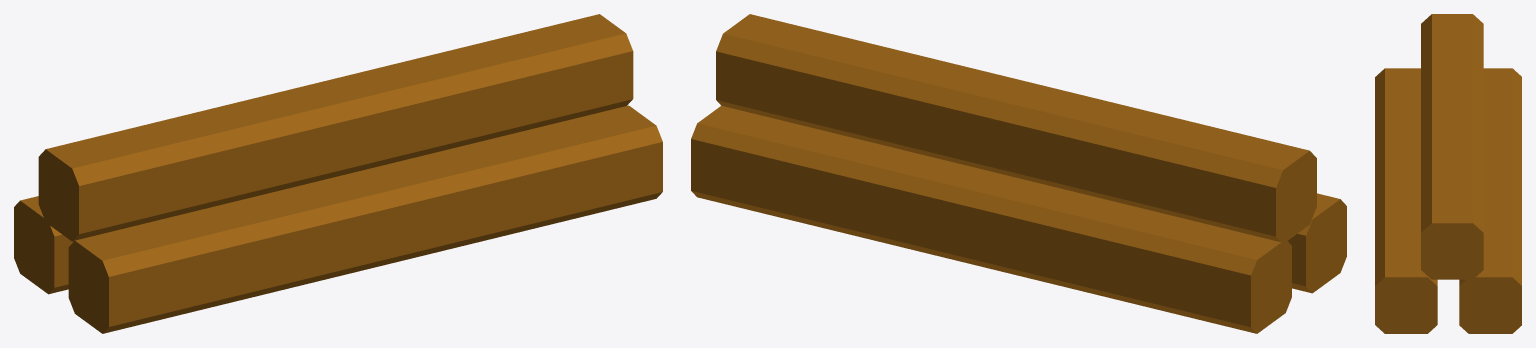
Rendered from Wood.fbx.
3 renders of one model, left to right at view 1: azimuth 30°, elevation 25°; view 2: azimuth 150°, elevation 25°; view 3: azimuth 270°, elevation 25°, orthographic. The views are drawn at different scales.
Visible parts, largest first — view 1: 立方体.006; view 2: 立方体.006; view 3: 立方体.006.
Part boxes in pixels (<box>): 立方体.006: <box>14,14,662,333</box>; 立方体.006: <box>691,14,1346,333</box>; 立方体.006: <box>1375,14,1521,333</box>.
Size of the model in its own units: 1822 by 450 by 540.
